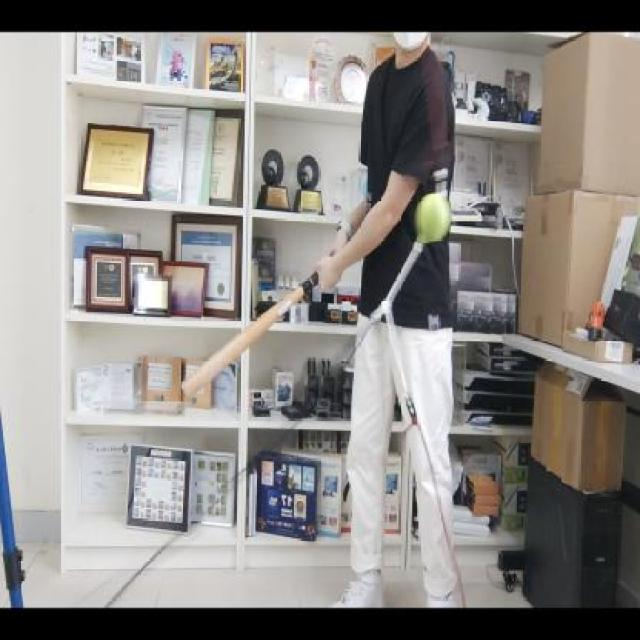baseball: (412, 186, 456, 248)
